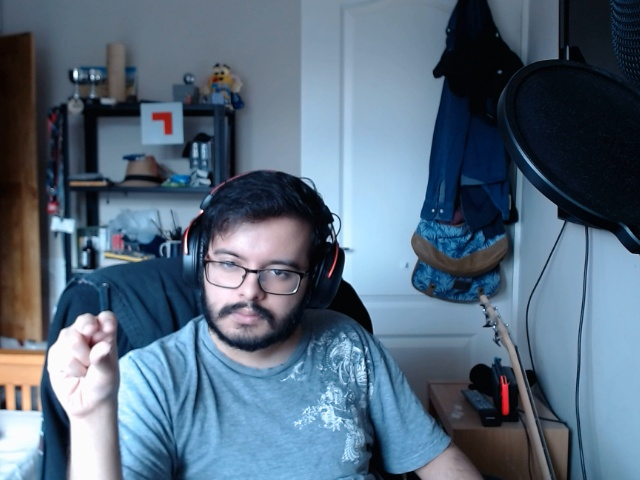No: (44, 308, 128, 417)
